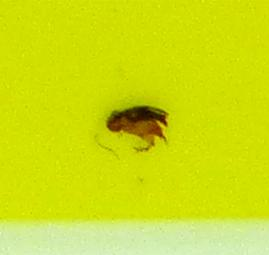Coleoptera: (100, 100, 169, 155)
